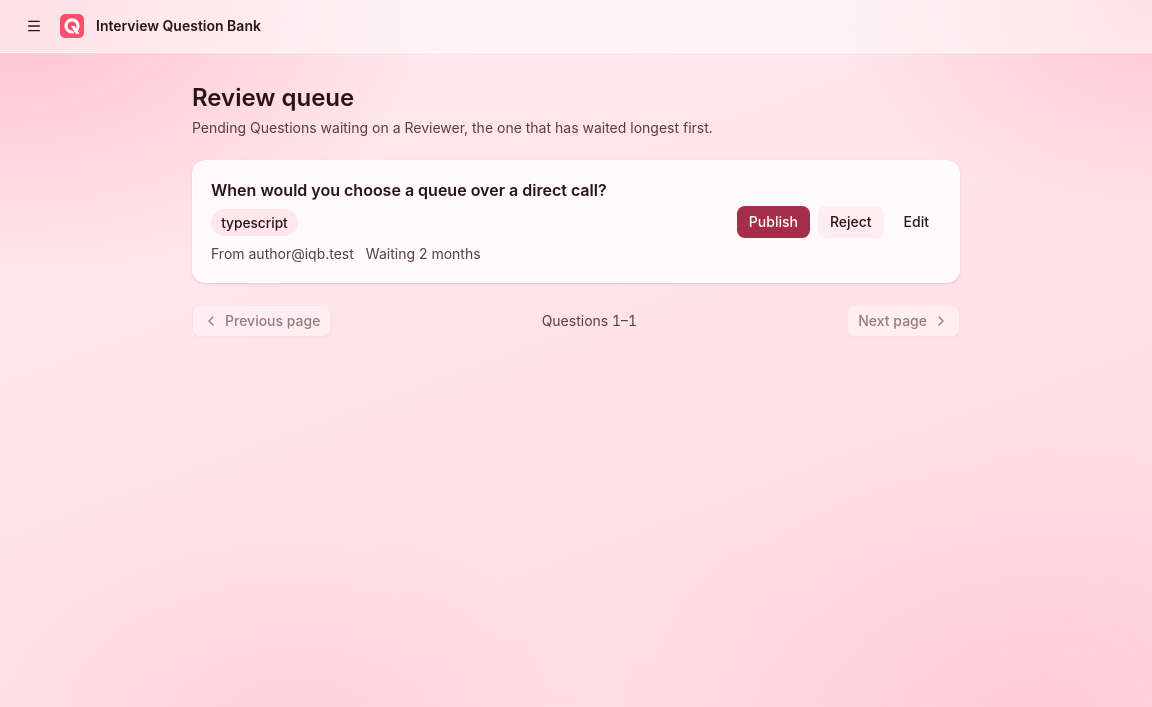
Test: editing from the review queue › opens the edit screen for that Question
Click the link "Edit".
click(916, 221)  # box [904,213,929,230]
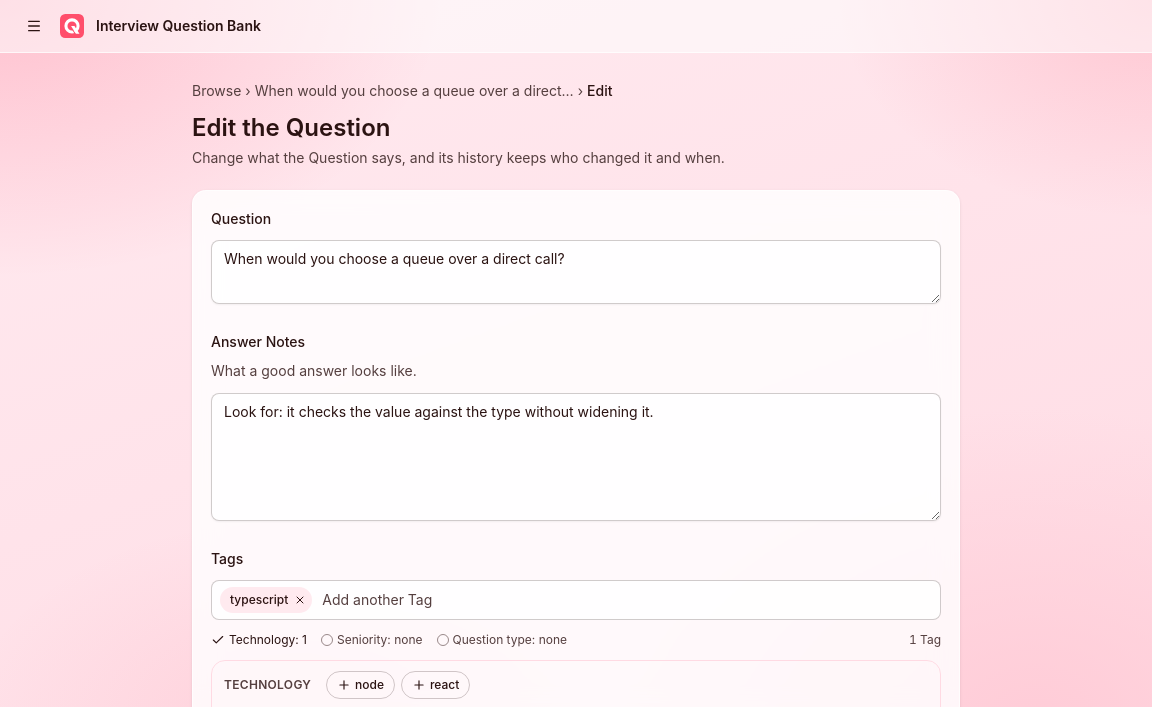
Now the heading "Edit the Question" is shown, box [192,113,390,142]
